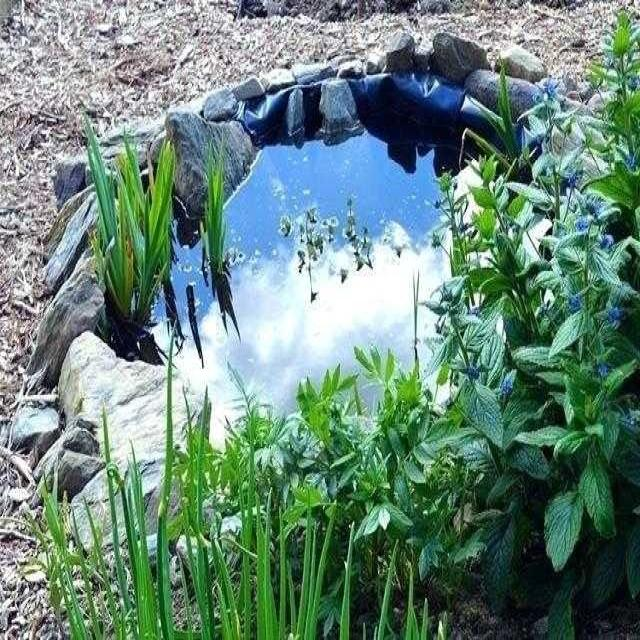Ponds: (23, 33, 630, 571)
